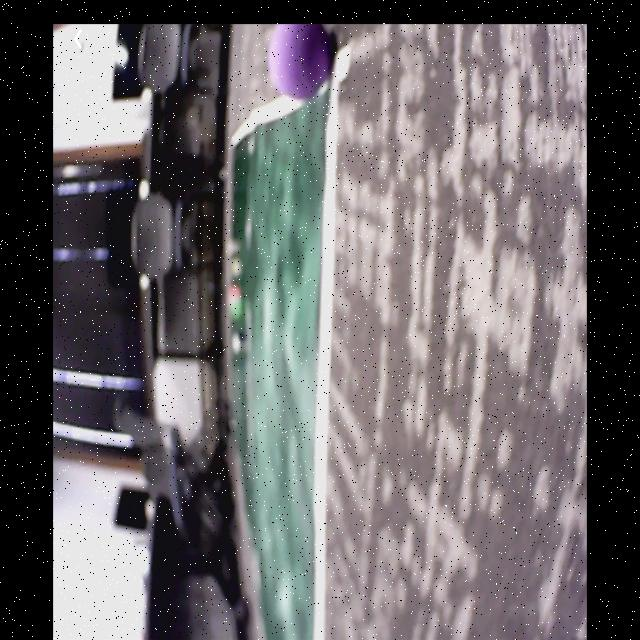ball: (269, 25, 330, 100)
